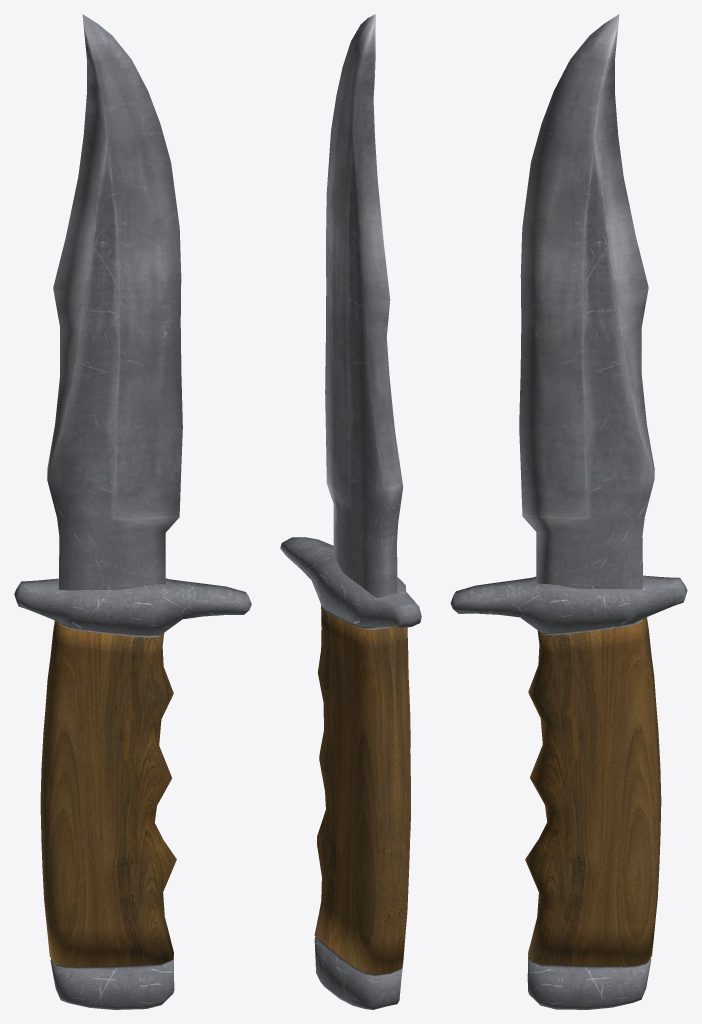
The model's file is Knife.obj.
3 views of the same model, side by side, from view 1: azimuth 90°, elevation 25°; view 2: azimuth 210°, elevation 25°; view 3: azimuth 270°, elevation 25° (orthographic).
Visible parts, largest first — view 1: Plane.001; view 2: Plane.001; view 3: Plane.001.
Part boxes in pixels (x1,y1,x2,y2): Plane.001: (14,14,251,1009); Plane.001: (280,14,421,1009); Plane.001: (450,14,687,1009).
Size of the model in its own units: 0.0194 by 0.3609 by 0.0786.
